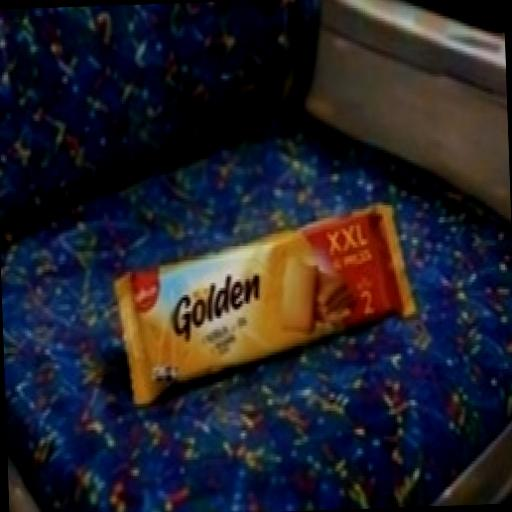golden: (89, 148, 440, 434)
